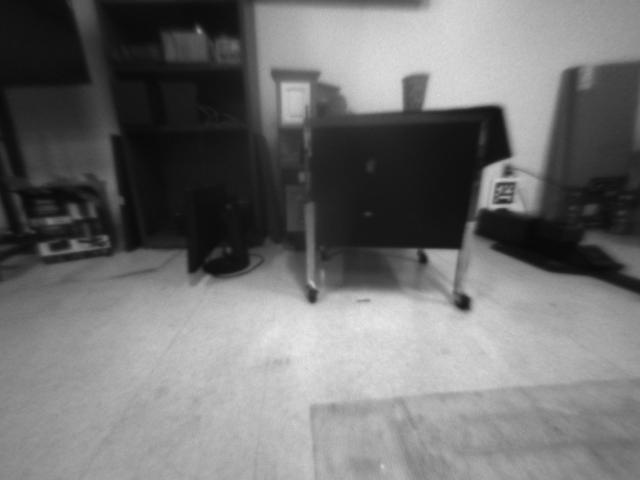coffee_cup: (399, 72, 428, 112)
